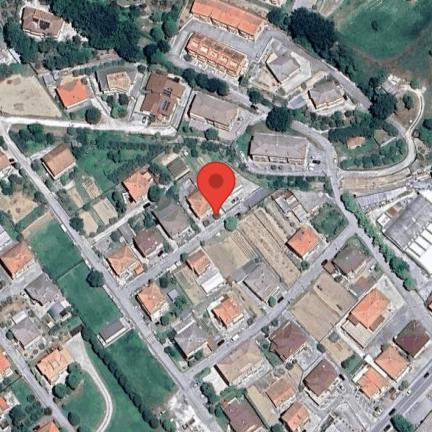area_open: (99, 74, 187, 141), (329, 308, 411, 365), (376, 340, 432, 415), (342, 159, 430, 197), (0, 74, 58, 120), (240, 139, 307, 176), (385, 266, 431, 318), (325, 385, 376, 428), (191, 111, 259, 138), (162, 396, 212, 432), (0, 270, 38, 316), (211, 365, 268, 391), (1, 189, 40, 223), (64, 324, 97, 362), (307, 139, 340, 176), (406, 385, 432, 424), (293, 188, 330, 215), (227, 317, 257, 340), (235, 285, 259, 312), (46, 300, 64, 326), (176, 177, 199, 196), (95, 237, 115, 256), (204, 316, 219, 341), (246, 43, 263, 58)
built: (169, 190, 318, 304), (288, 241, 386, 344), (379, 194, 432, 276), (244, 40, 312, 98), (188, 0, 266, 43), (183, 28, 247, 78), (345, 289, 394, 347), (136, 71, 185, 127), (218, 339, 263, 386), (209, 289, 250, 334), (190, 91, 239, 128), (245, 264, 285, 306), (39, 140, 77, 183), (250, 131, 308, 159), (19, 4, 65, 39), (270, 320, 307, 363), (349, 364, 388, 403), (264, 48, 304, 86), (170, 320, 208, 358), (394, 315, 430, 355), (1, 237, 37, 277), (303, 73, 345, 107), (303, 359, 339, 398), (138, 280, 170, 322), (109, 245, 143, 284), (10, 311, 42, 352), (123, 165, 158, 202), (22, 273, 58, 308), (94, 314, 131, 348), (375, 346, 409, 381), (246, 384, 277, 422), (222, 400, 259, 431), (57, 78, 89, 111), (158, 205, 190, 238), (37, 351, 70, 383), (131, 228, 166, 256), (185, 188, 217, 218), (266, 377, 296, 407), (281, 401, 310, 431), (322, 413, 362, 432), (93, 198, 120, 226), (103, 70, 133, 93), (0, 390, 21, 422), (166, 158, 191, 182), (0, 345, 16, 381), (82, 176, 104, 199), (412, 408, 432, 432), (42, 69, 57, 97), (0, 150, 12, 185), (0, 222, 11, 249), (35, 422, 61, 432)
vegetation_low: (12, 125, 332, 209), (267, 0, 432, 152), (0, 0, 230, 98), (18, 205, 124, 337), (246, 100, 409, 172), (46, 350, 167, 432), (341, 195, 414, 290), (101, 328, 179, 416), (33, 161, 100, 248), (196, 374, 248, 428), (5, 373, 51, 432), (129, 183, 181, 231), (2, 164, 49, 210), (156, 273, 190, 330), (312, 202, 354, 247), (161, 339, 209, 373), (49, 310, 78, 338), (61, 104, 101, 124), (389, 418, 414, 431)
